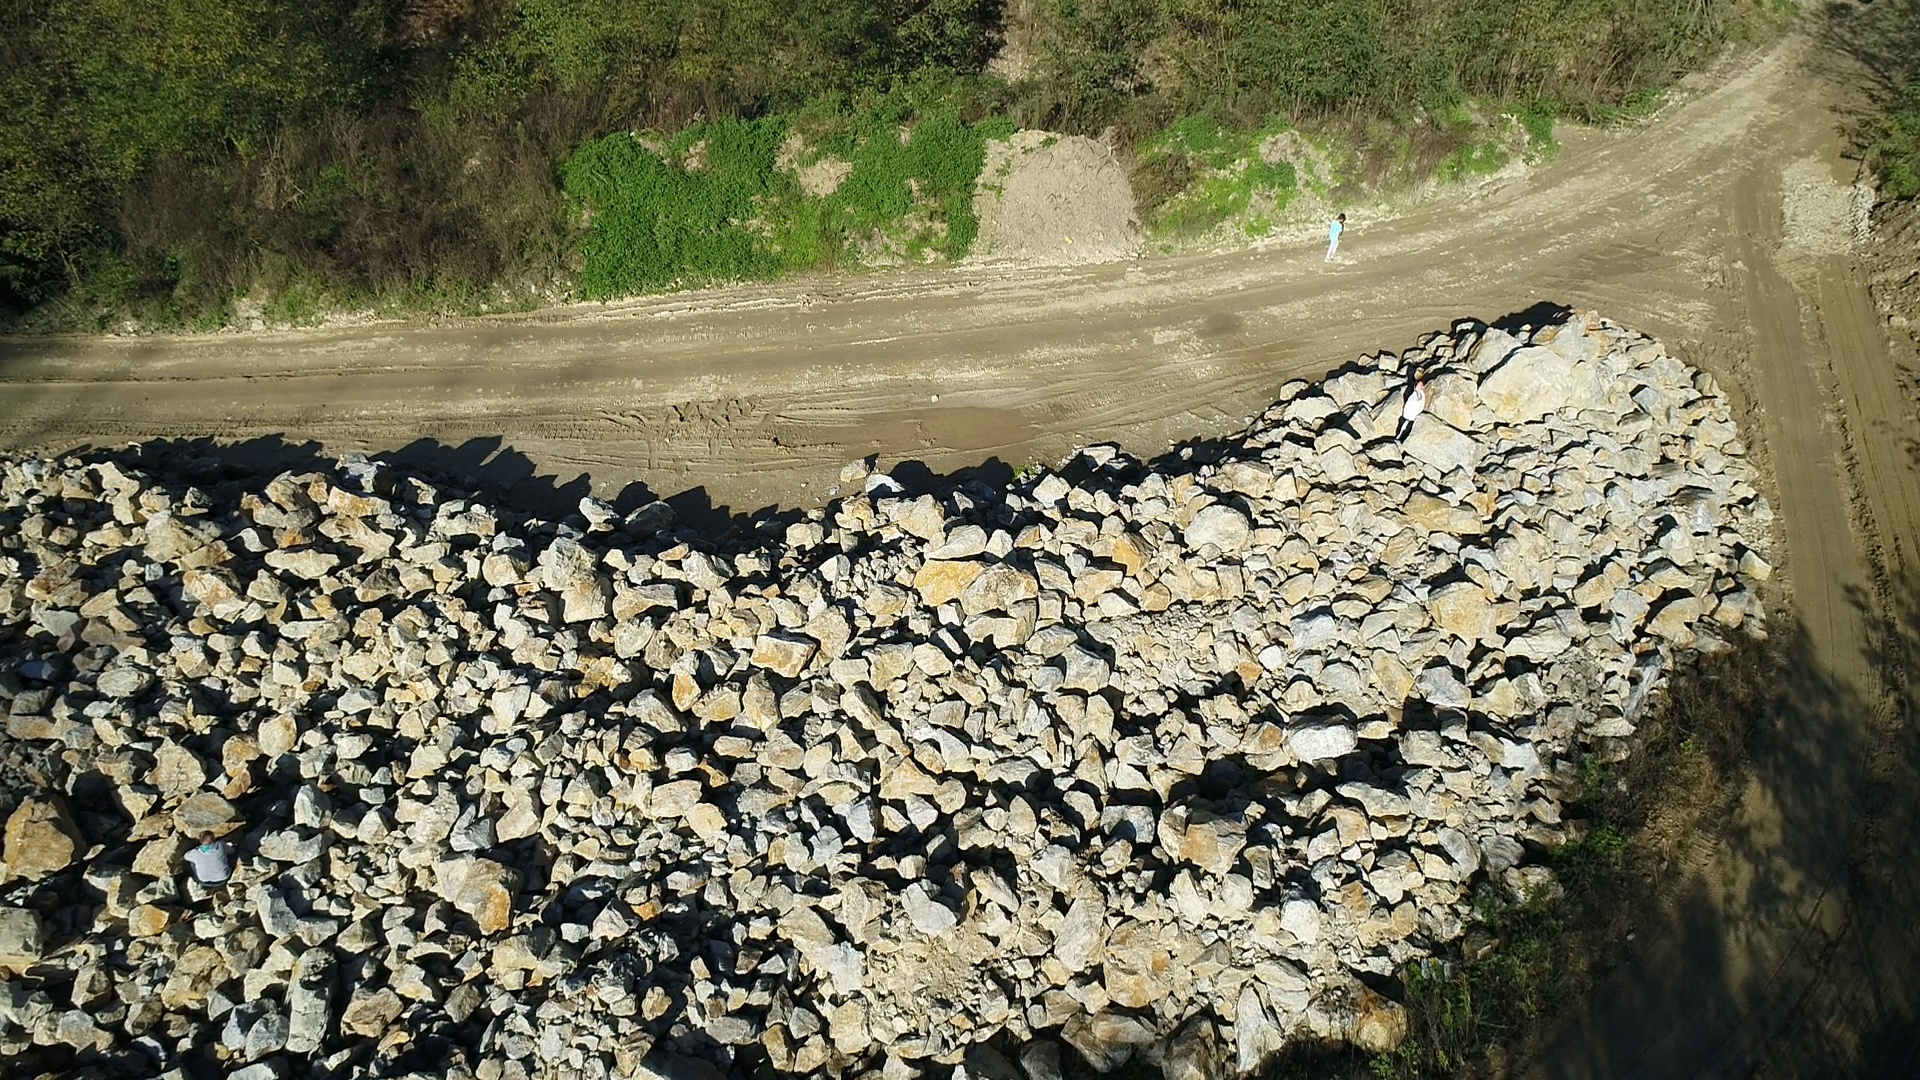person: (183, 831, 235, 890), (1393, 381, 1426, 443), (1323, 212, 1346, 263)
